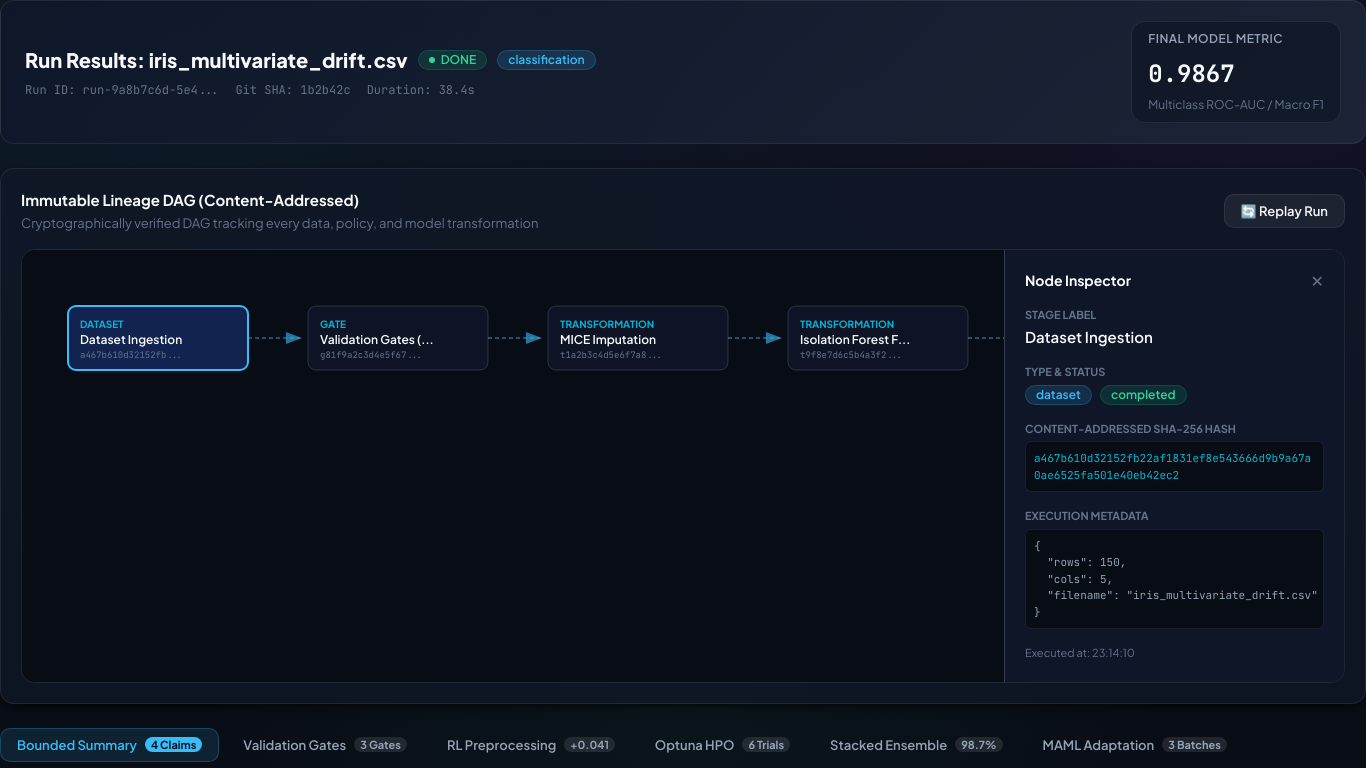
Test: ResultsDashboard › switches to Validation Gates tab when clicked
The width and height of the screenshot is (1366, 768).
Click the text "Validation Gates".
click(295, 744)  # box [243,736,346,752]
(page scrolled)
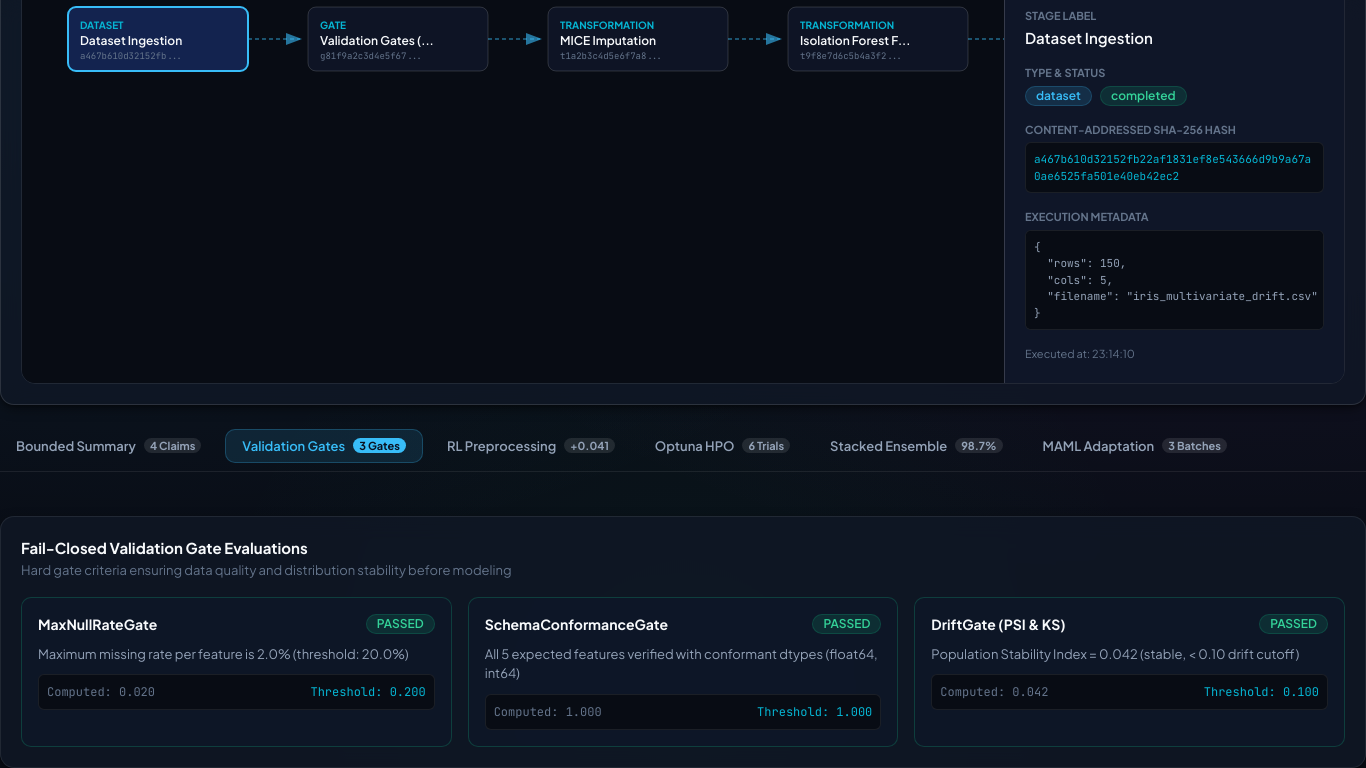
Check: the text "Fail-Closed Validation Gate Evaluations" is shown, box [21,538,308,556]
Check: the text "MaxNullRateGate" is shown, box [38,614,157,634]
